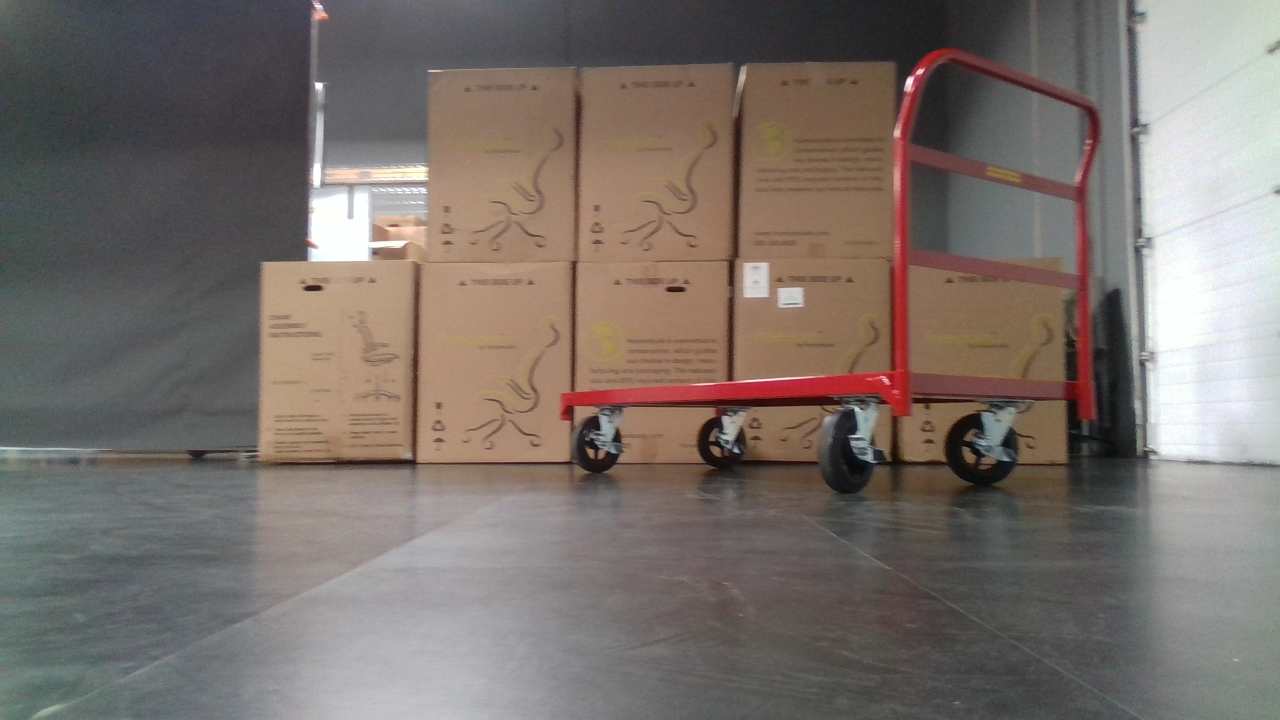Dolly: (561, 39, 1108, 492)
Wheel: (938, 405, 1022, 483), (817, 406, 886, 493), (569, 404, 628, 474), (694, 414, 754, 469)
